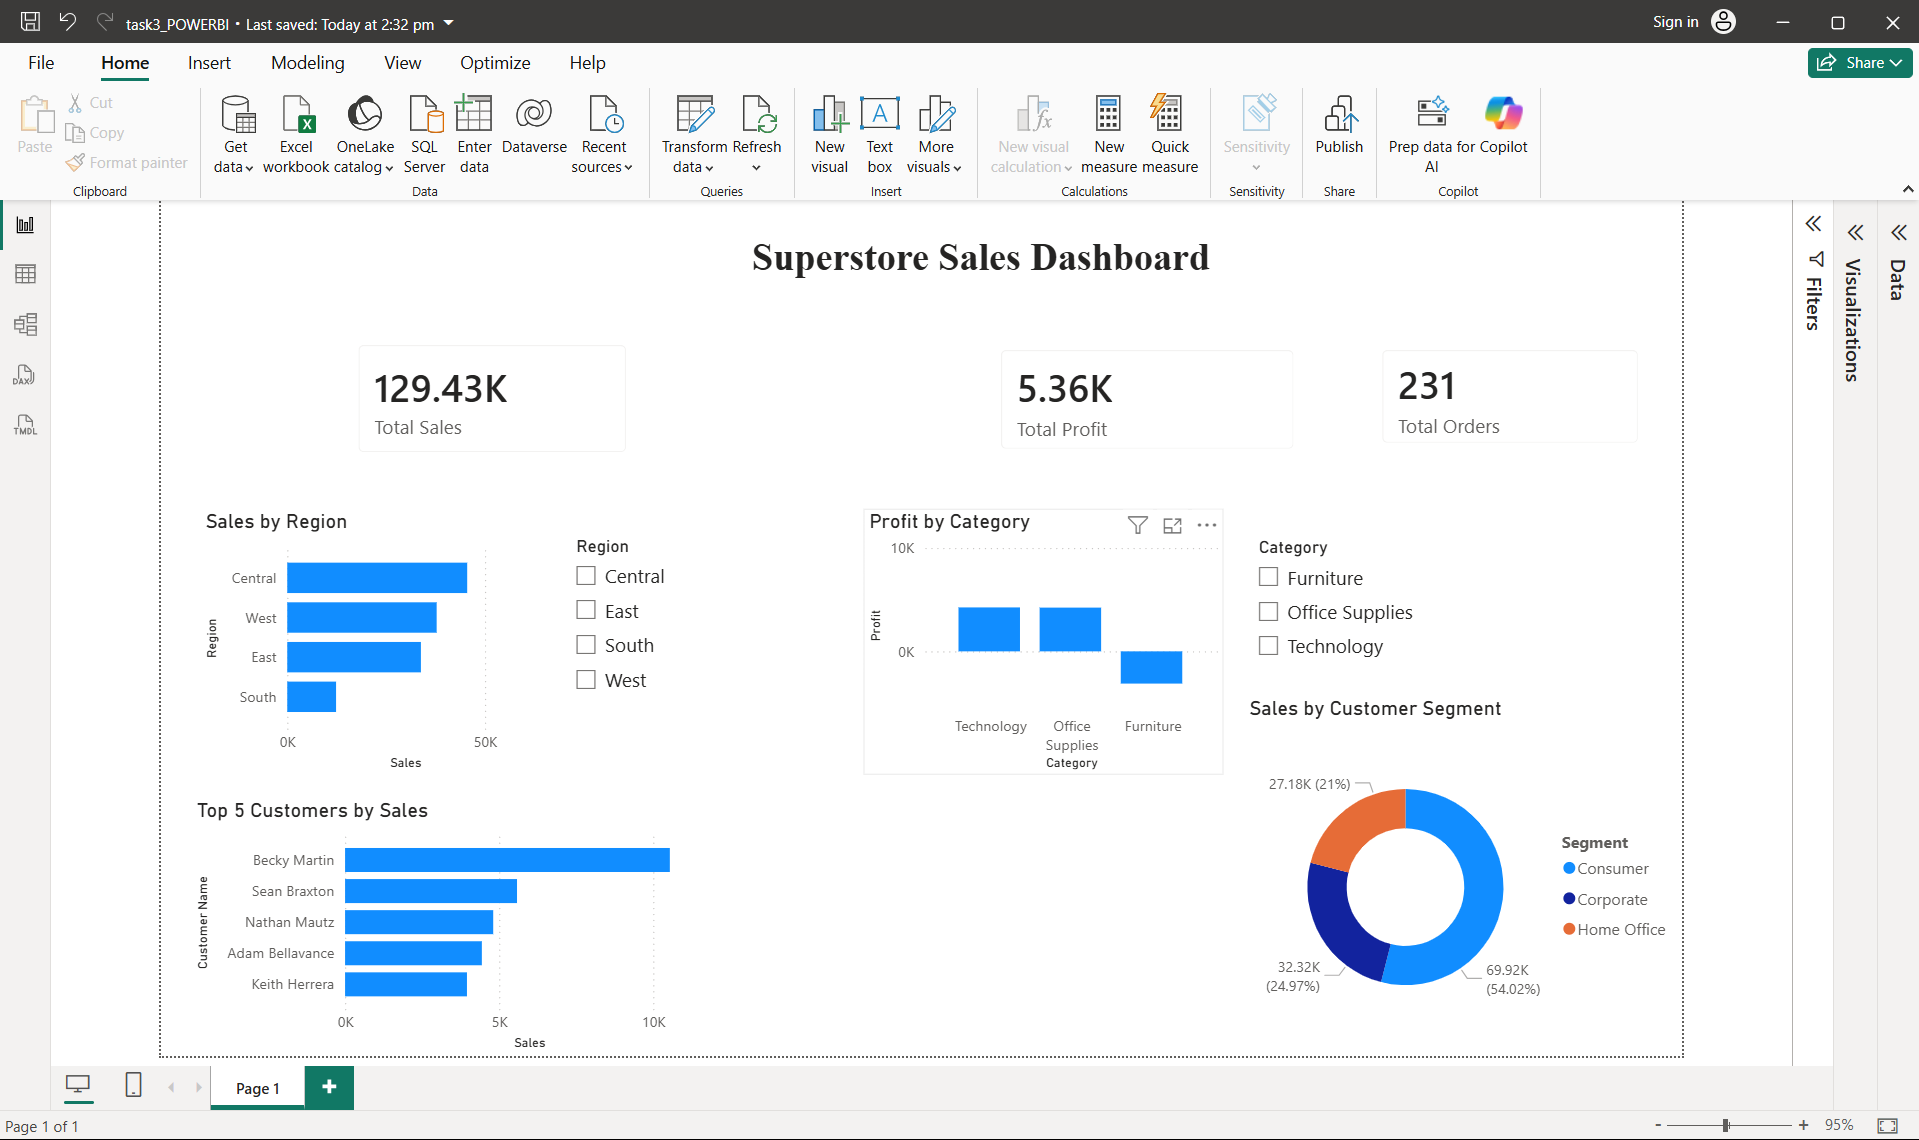

The page's visual inventory and layout, read from the dashboard file:
{"tool":"powerbi","page":{"name":"Page 1","canvas":[1280,720],"ordinal":0},"visuals":[{"type":"clusteredBarChart","fields":{"Category":["small_superstore.Region"],"Y":["Sum(small_superstore.Sales)"]},"box":[32.6,259.3,288.4,224.4],"z":0},{"type":"columnChart","fields":{"Category":["small_superstore.Category"],"Y":["Sum(small_superstore.Profit)"]},"box":[590.7,259.3,303.5,224.4],"z":1000},{"type":"slicer","fields":{"Values":["small_superstore.Region"]},"box":[336,277.9,237.2,187.2],"z":2000},{"type":"cardVisual","fields":{"Data":["Count(small_superstore.Order ID)"]},"box":[1010.4,109.3,249.2,112.5],"z":3000},{"type":"textbox","box":[399.3,24.7,580.4,63.1],"z":4000},{"type":"cardVisual","fields":{"Data":["Sum(small_superstore.Sales)"]},"box":[148.8,104.7,259.3,124.4],"z":5000},{"type":"cardVisual","fields":{"Data":["Sum(small_superstore.Profit)"]},"box":[689.5,109.3,280.2,117.4],"z":6000},{"type":"slicer","fields":{"Values":["small_superstore.Category"]},"box":[910.5,279.1,237.2,186],"z":7000},{"type":"clusteredBarChart","title":"Top 5 Customers by Sales","fields":{"Category":["small_superstore.Customer Name"],"Y":["Sum(small_superstore.Sales)"]},"box":[25.6,502.3,455.8,217.4],"z":8000},{"type":"donutChart","title":"Sales by Customer Segment","fields":{"Category":["small_superstore.Segment"],"Y":["Sum(small_superstore.Sales)"]},"box":[910.5,417.4,369.8,302.3],"z":9000}]}

Visuals, with their boxes on the page's 1280x720 design canvas (x1, y1, x2, y2). These are canvas units, not pixel positions in the 1919x1140 screenshot, which may show the page scaled, cropped or inside an application window:
clusteredBarChart - small_superstore.Region x Sum(small_superstore.Sales): rect(33, 259, 321, 484)
columnChart - small_superstore.Category x Sum(small_superstore.Profit): rect(591, 259, 894, 484)
slicer - small_superstore.Region: rect(336, 278, 573, 465)
cardVisual - Count(small_superstore.Order ID): rect(1010, 109, 1260, 222)
textbox: rect(399, 25, 980, 88)
cardVisual - Sum(small_superstore.Sales): rect(149, 105, 408, 229)
cardVisual - Sum(small_superstore.Profit): rect(690, 109, 970, 227)
slicer - small_superstore.Category: rect(910, 279, 1148, 465)
"Top 5 Customers by Sales" clusteredBarChart: rect(26, 502, 481, 720)
"Sales by Customer Segment" donutChart: rect(910, 417, 1280, 720)
